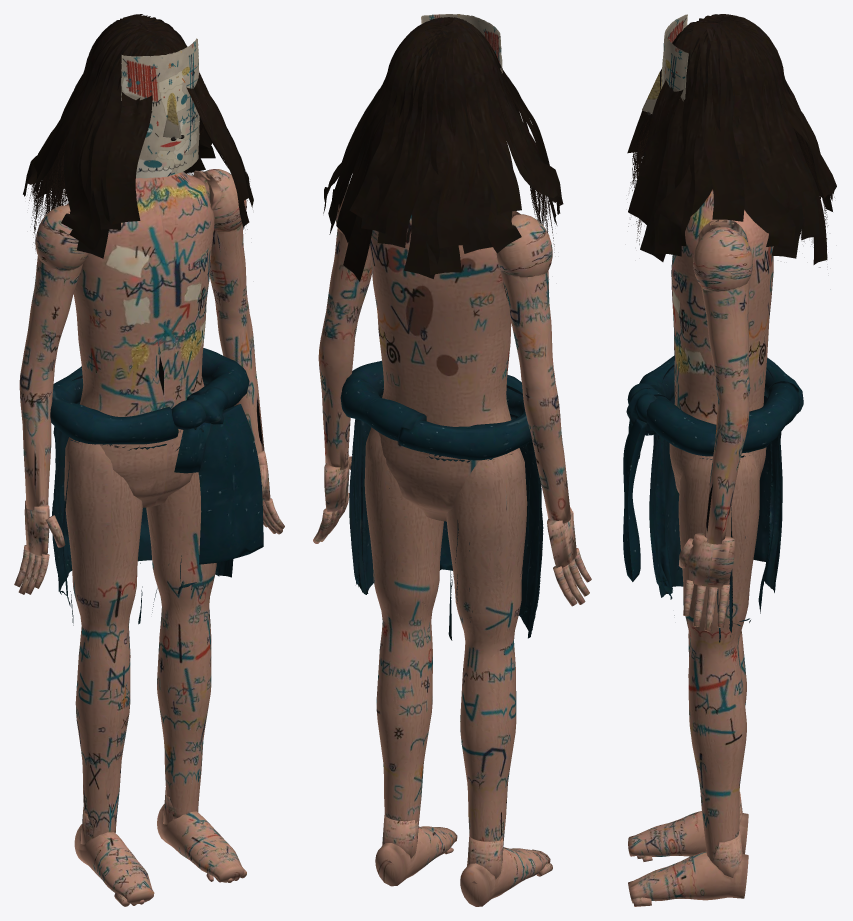
Rendered from siyamak.glb.
3 views of the same model, side by side, from view 1: azimuth 30°, elevation 25°; view 2: azimuth 150°, elevation 25°; view 3: azimuth 270°, elevation 25° (orthographic). The views are drawn at different scales.
Parts seen in each view (by area): view 1: Rig_Body, Rig_LegR, Rig_Head, Rig_LegL, Rig_ArmR, Rig_ArmL, Rig_Face; view 2: Rig_Body, Rig_Head, Rig_LegR, Rig_LegL, Rig_ArmR, Rig_ArmL, Rig_Face; view 3: Rig_Head, Rig_Body, Rig_LegL, Rig_ArmL, Rig_LegR, Rig_Face.
Boxes of the visible parts, <box> form: Rig_Body: <box>50,171,263,625</box>; Rig_LegR: <box>64,437,154,906</box>; Rig_Head: <box>23,14,253,258</box>; Rig_LegL: <box>146,472,246,882</box>; Rig_ArmR: <box>14,203,88,594</box>; Rig_ArmL: <box>193,169,284,534</box>; Rig_Face: <box>121,24,199,178</box>; Rig_Body: <box>340,215,543,640</box>; Rig_Head: <box>323,17,563,281</box>; Rig_LegR: <box>446,448,552,906</box>; Rig_LegL: <box>364,427,457,886</box>; Rig_ArmR: <box>496,211,591,606</box>; Rig_ArmL: <box>313,184,371,543</box>; Rig_Face: <box>421,14,502,73</box>; Rig_Head: <box>627,14,836,267</box>; Rig_Body: <box>623,189,803,642</box>; Rig_LegL: <box>628,452,759,906</box>; Rig_ArmL: <box>679,219,752,631</box>; Rig_LegR: <box>628,630,748,861</box>; Rig_Face: <box>642,14,688,116</box>.
Bounding box in the file's own units: 0.5913 × 1.83 × 0.422.
5 materials, 5 textured.
